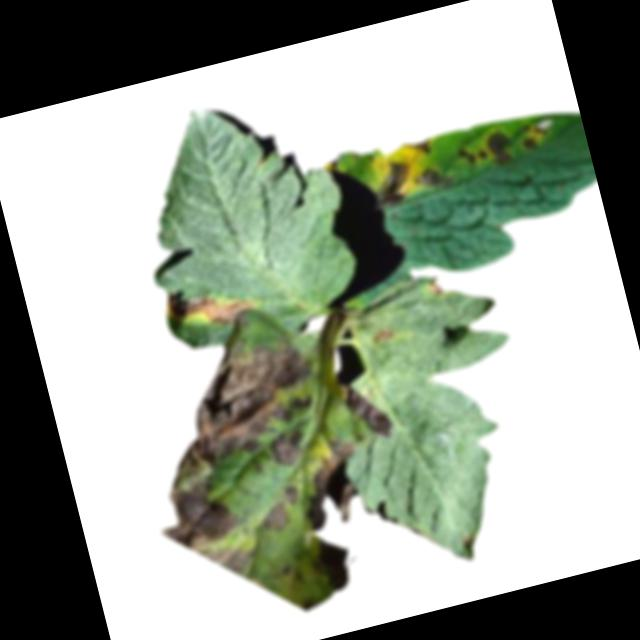Early_blight: (118, 322, 353, 590), (290, 435, 378, 538), (162, 268, 262, 337), (343, 374, 397, 445), (254, 480, 306, 536), (313, 531, 358, 594), (370, 158, 419, 211), (267, 429, 312, 473), (517, 113, 556, 154), (485, 125, 516, 166), (419, 162, 455, 192), (456, 141, 490, 166), (405, 132, 434, 157), (368, 325, 399, 348), (427, 271, 447, 299)
